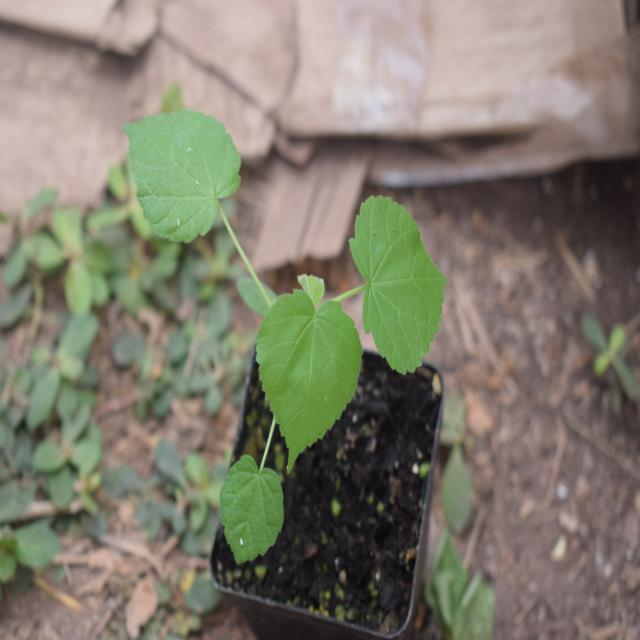abutilon theophrasti: (74, 79, 452, 493)
